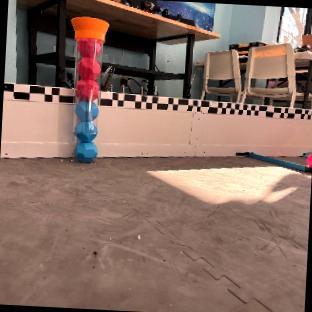Parking - B: (236, 151, 311, 171)
V5_BLUE: (74, 101, 98, 160)
V5_RED: (71, 15, 107, 160), (75, 37, 101, 100), (306, 152, 312, 166)
